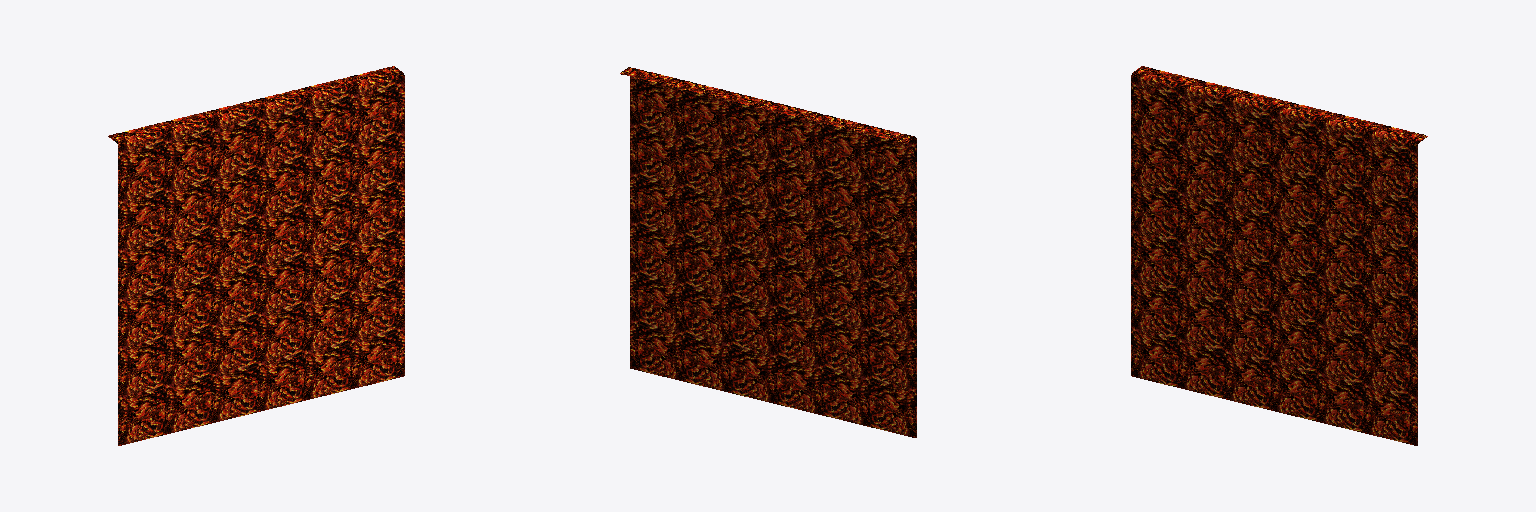
3 renders of one model, left to right at view 1: azimuth 30°, elevation 25°; view 2: azimuth 150°, elevation 25°; view 3: azimuth 330°, elevation 25°, orthographic.
Parts seen in each view (by area): view 1: lava_54m_54m; view 2: lava_54m_54m; view 3: lava_54m_54m.
Boxes of the visible parts, x1=… form: lava_54m_54m: x1=108, y1=66, x2=404, y2=445; lava_54m_54m: x1=620, y1=67, x2=916, y2=437; lava_54m_54m: x1=1131, y1=66, x2=1427, y2=445.
Size of the model in its own units: 5400 by 5451 by 350.
1 materials, 1 textured.